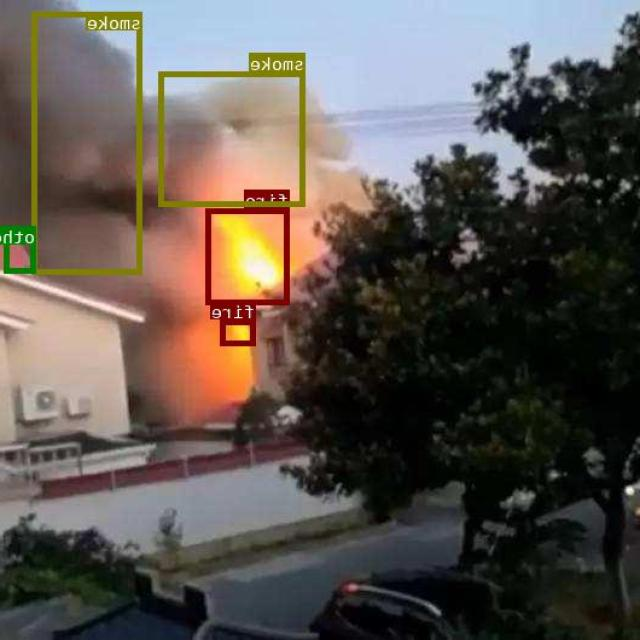fire: (207, 208, 290, 304), (221, 319, 256, 345)
other: (5, 225, 37, 272)
smoke: (33, 10, 143, 274), (160, 71, 306, 206)
